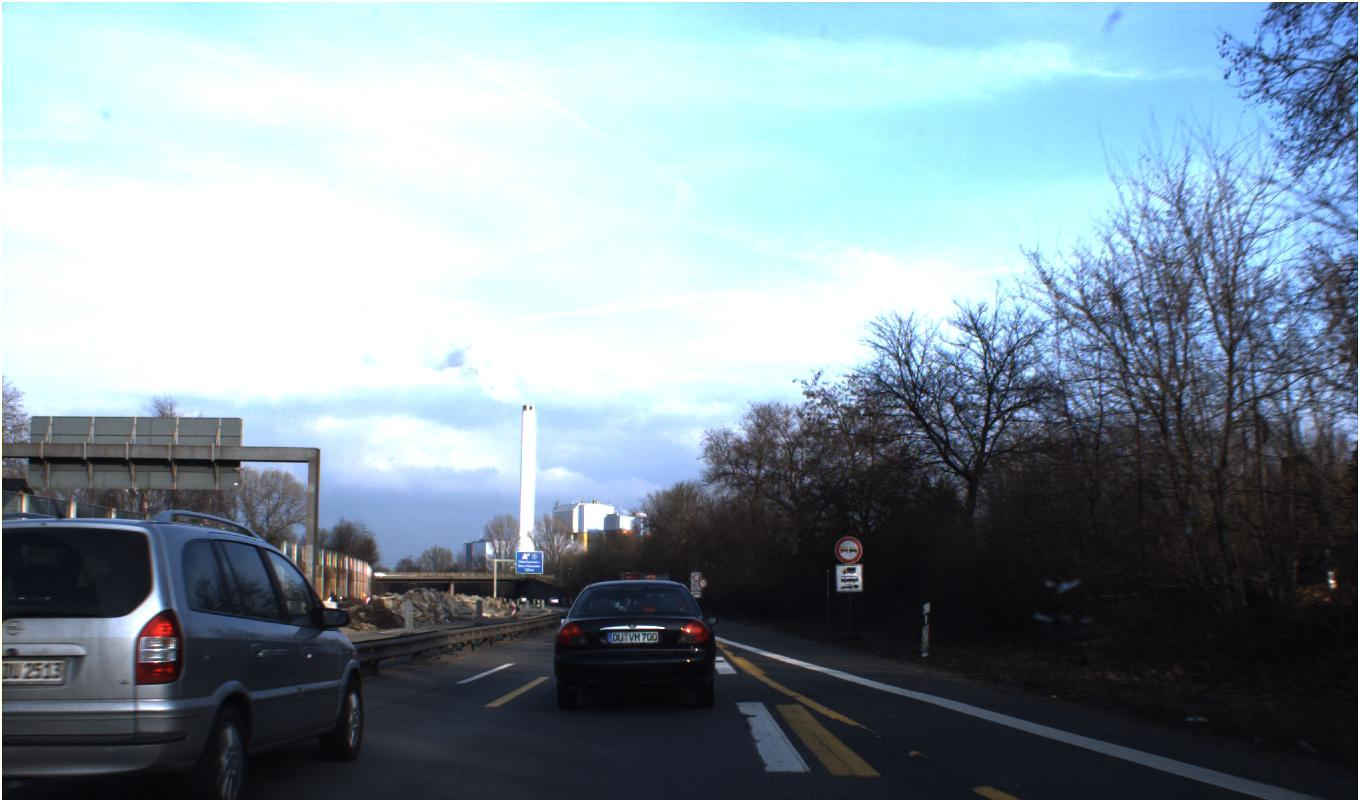prohibitory: (834, 535, 862, 564)
